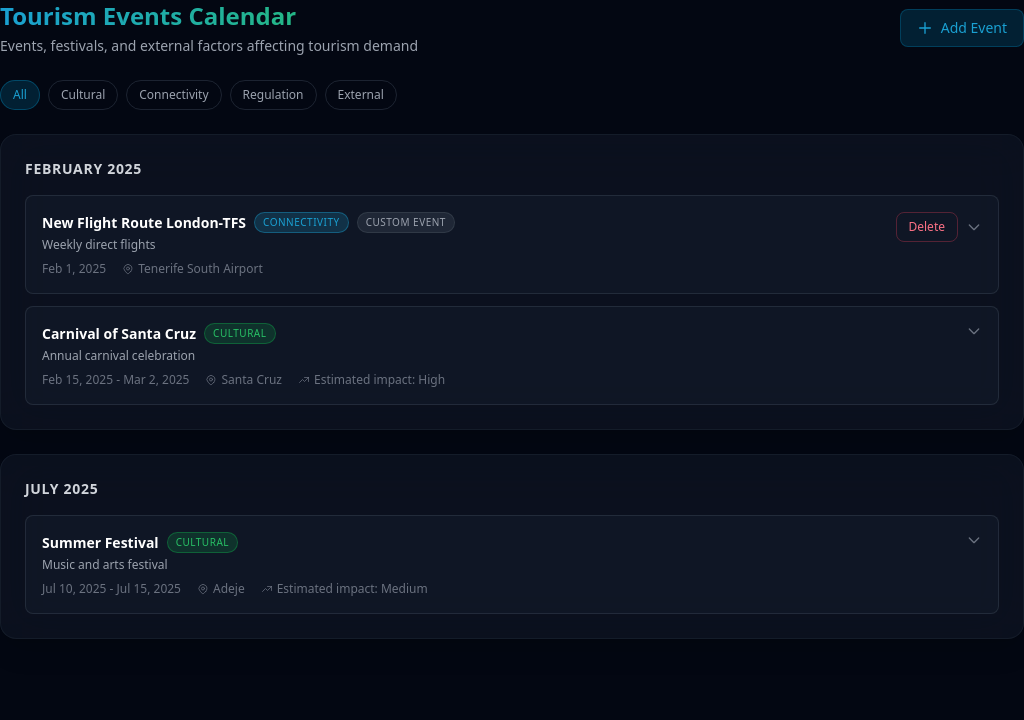
it: EventsPage › create event › hides the form when clicking cancel
The width and height of the screenshot is (1024, 720).
Click the button "Add Event". click: (962, 28)
box: [900,9,1023,47]
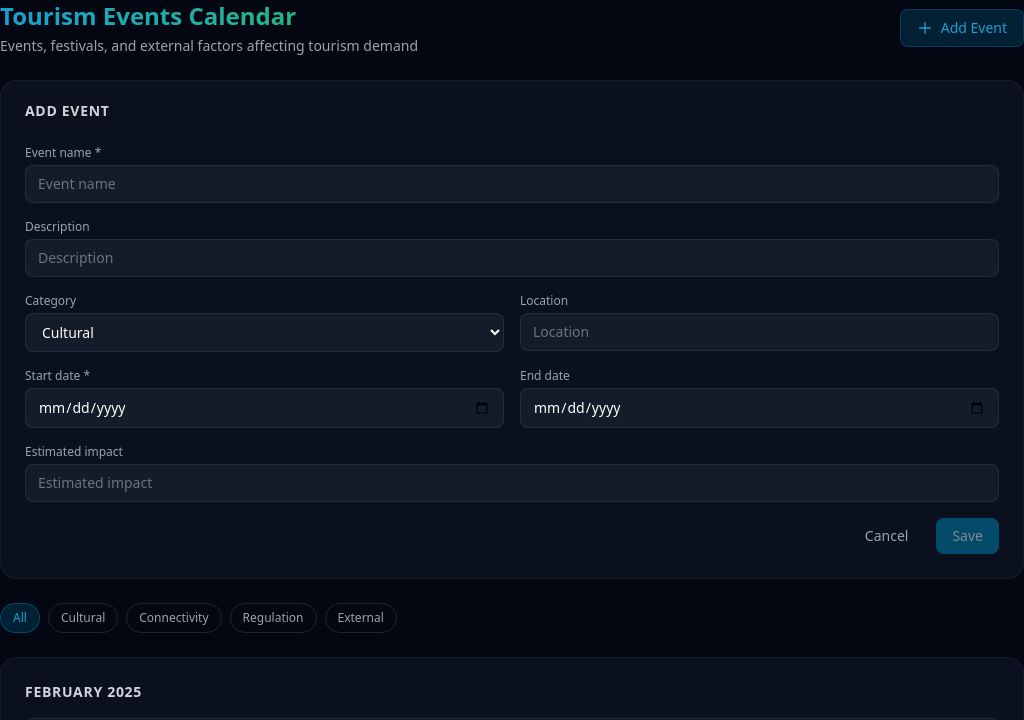
Now the field labelled "Event name *" is shown, box [25,165,999,203]
Click the button "Cancel". click: (887, 536)
box: [849,518,924,554]
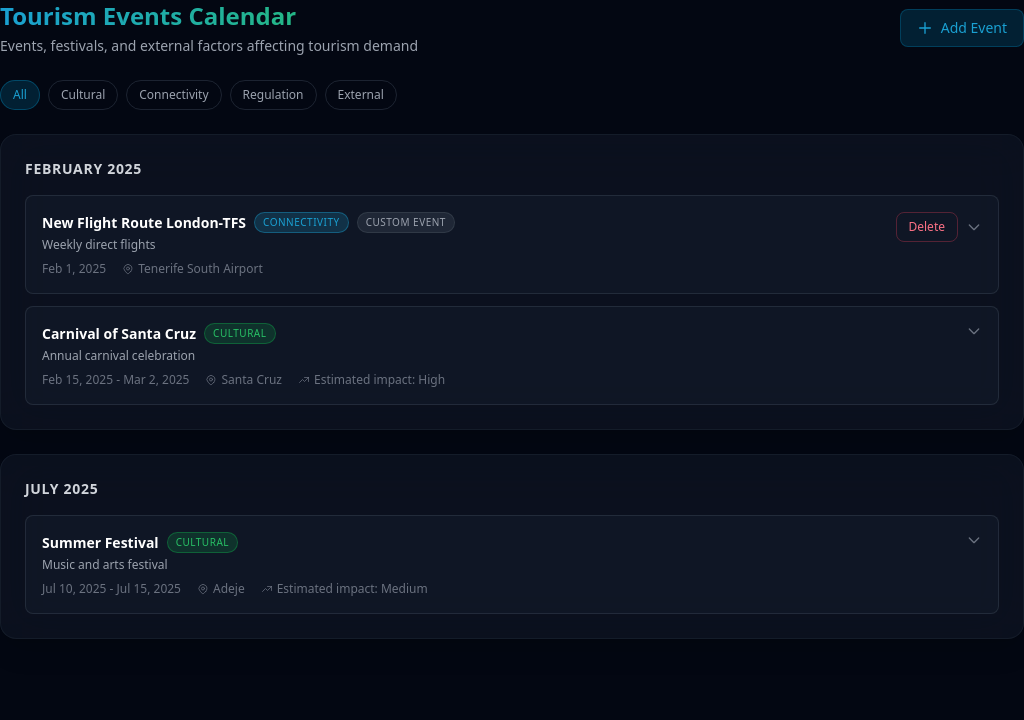
Now the label labelled "Event name *" is gone
